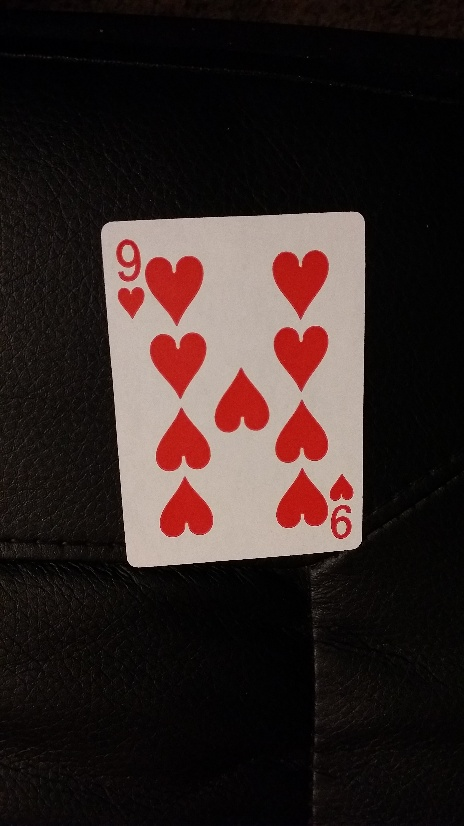H9: (108, 232, 146, 321), (325, 470, 359, 541)
